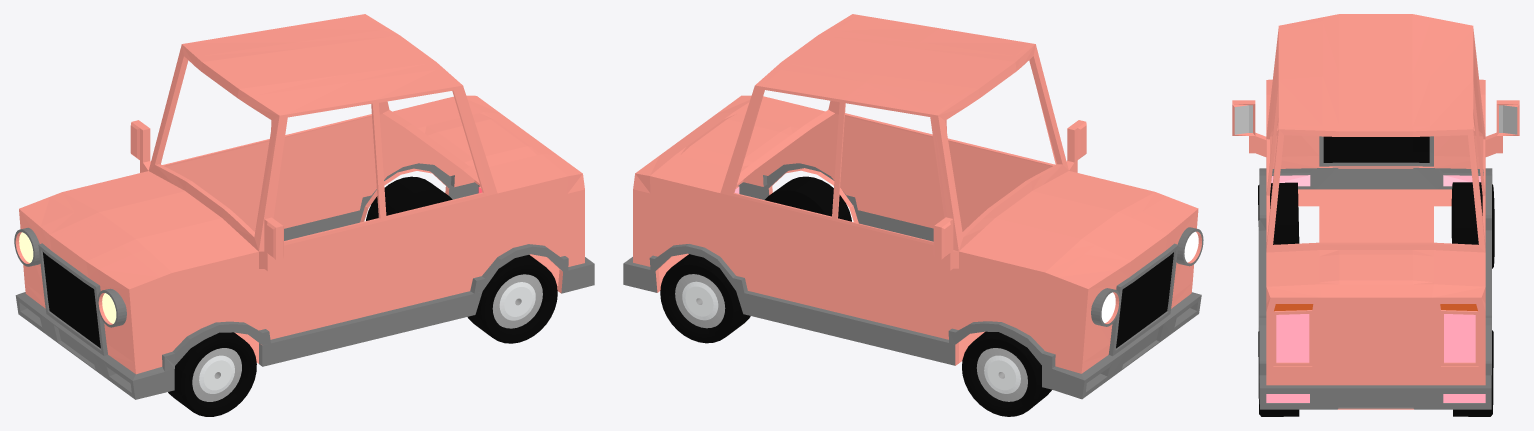
File: car.gltf
The picture shows the model from 3 angles, left to right: view 1: azimuth 30°, elevation 25°; view 2: azimuth 150°, elevation 25°; view 3: azimuth 270°, elevation 25°; orthographic projection.
Parts seen in each view (by area): view 1: Cube, Cylinder, Cylinder.001, Cylinder.002; view 2: Cube, Cylinder.002, Cylinder.005, Cylinder.001; view 3: Cube, Cylinder.005, Cylinder, Cylinder.002, Cylinder.001.
Part boxes in pixels (x1,y1,x2,y2): Cube: (14,14,594,399); Cylinder: (168,332,256,416); Cylinder.001: (467,255,557,343); Cylinder.002: (366,176,452,220); Cube: (623,14,1203,399); Cylinder.002: (660,254,750,343); Cylinder.005: (962,331,1051,416); Cylinder.001: (765,176,851,221); Cube: (1232,14,1519,409); Cylinder.005: (1451,182,1494,268); Cylinder: (1258,182,1299,244); Cylinder.002: (1453,330,1493,416); Cylinder.001: (1258,331,1299,416).
Size of the model in its own units: 5.97 by 3.44 by 3.18.
